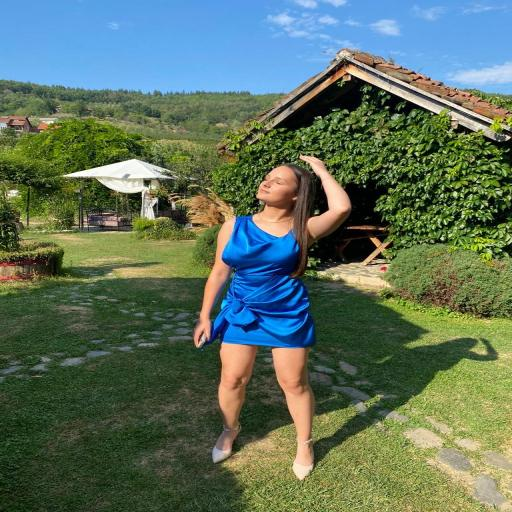marija: (255, 162, 302, 206)
